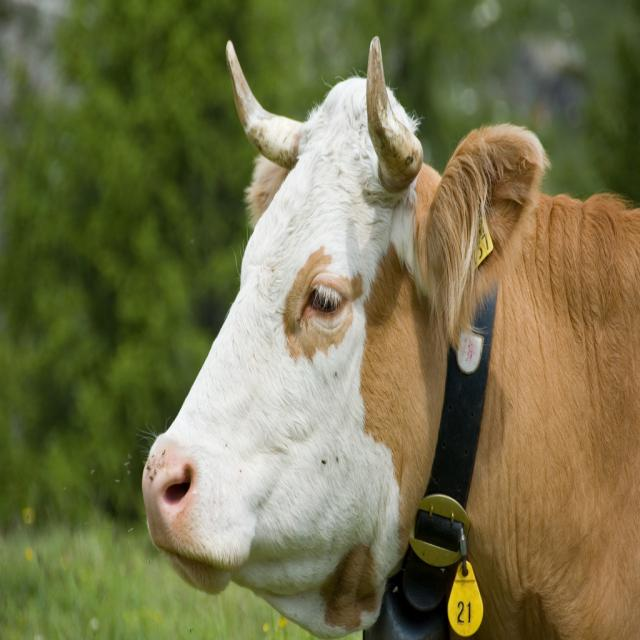Cattle: (135, 36, 640, 640)
